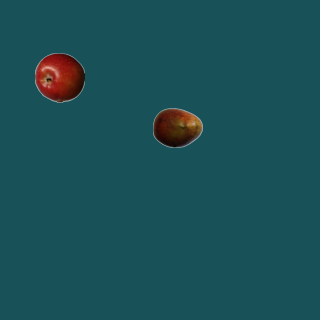Apple Braeburn: (34, 52, 84, 102)
Mango Red: (152, 102, 202, 152)
